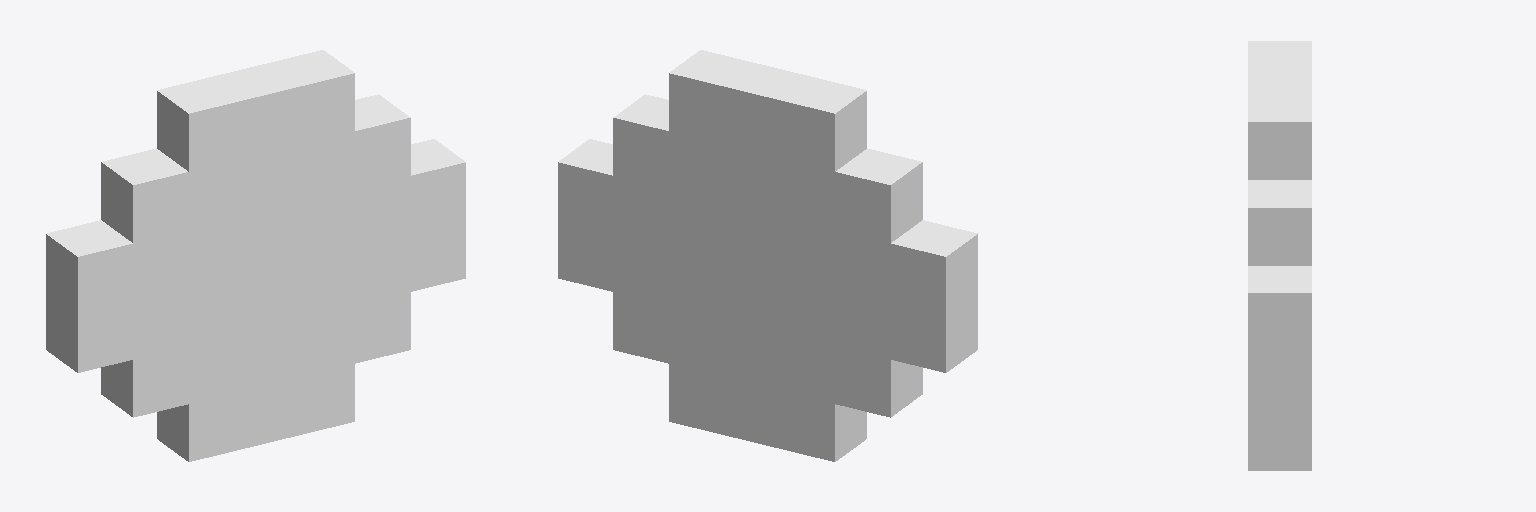
Rendered from Car1-0.obj.
The picture shows the model from 3 angles: view 1: azimuth 30°, elevation 25°; view 2: azimuth 150°, elevation 25°; view 3: azimuth 270°, elevation 25°; orthographic projection.
Visible parts, largest first — view 1: object 1; view 2: object 1; view 3: object 1.
Part boxes in pixels (bbox=[...]): object 1: bbox=[46, 50, 465, 461]; object 1: bbox=[558, 50, 977, 461]; object 1: bbox=[1248, 41, 1311, 470].
Size of the model in its own units: 0.7 by 0.6 by 0.1.